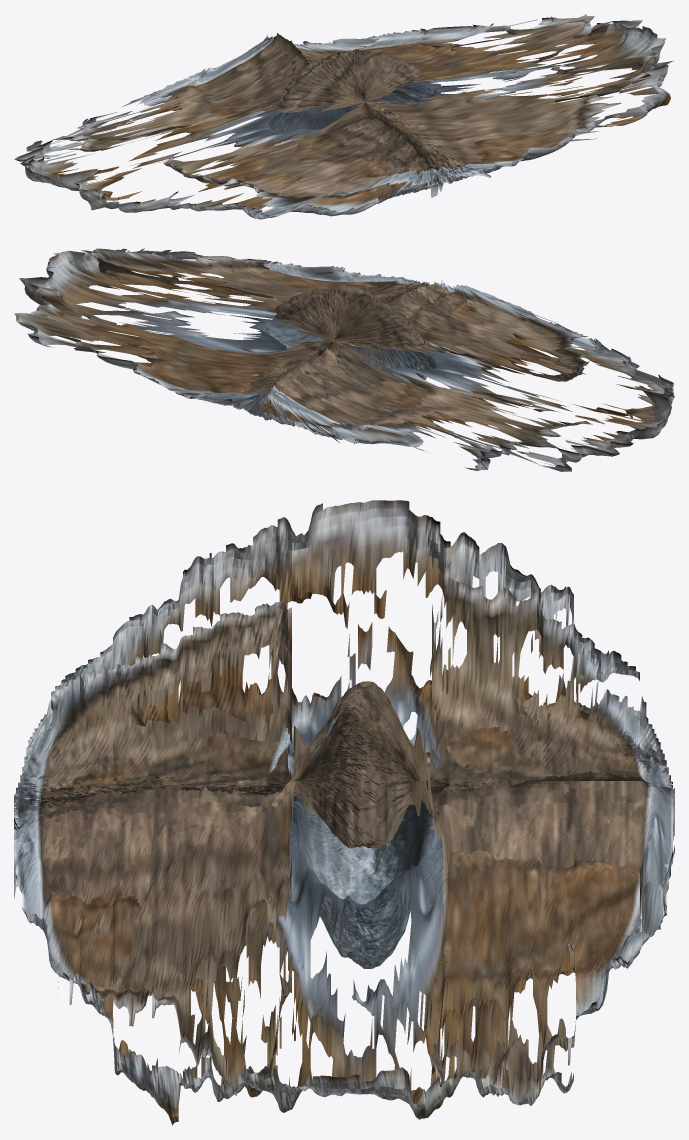
The picture shows the model from 3 angles, top to bottom: view 1: azimuth 30°, elevation 25°; view 2: azimuth 150°, elevation 25°; view 3: azimuth 270°, elevation 25°; orthographic projection. The views are drawn at different scales.
Parts seen in each view (by area): view 1: geometry_0; view 2: geometry_0; view 3: geometry_0.
Part boxes in pixels (bbox=[...]): geometry_0: bbox=[14, 14, 673, 219]; geometry_0: bbox=[14, 248, 674, 471]; geometry_0: bbox=[14, 500, 674, 1125].
Bounding box in the file's own units: 1.99 × 0.3887 × 0.9423.
1 material, 1 textured.
